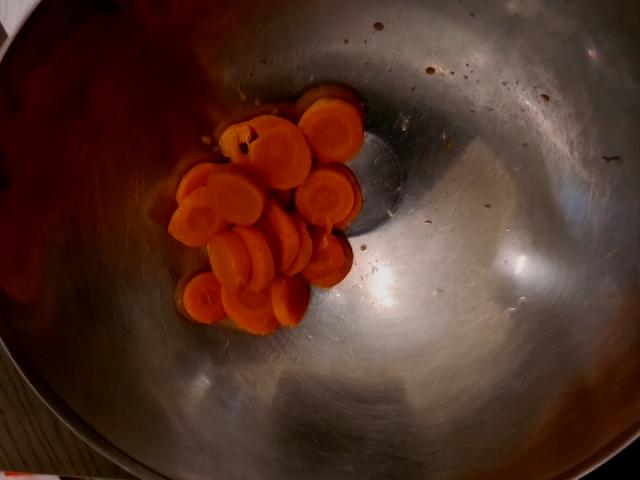kichen waste: (168, 97, 364, 335)
